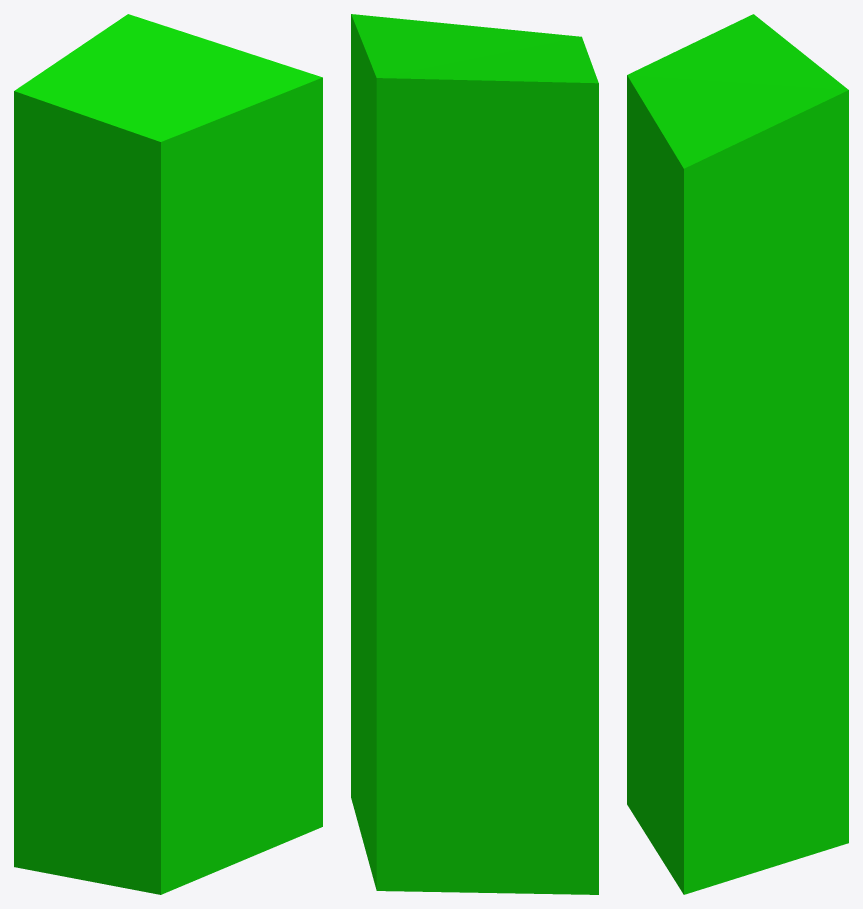
3 renders of one model, left to right at view 1: azimuth 30°, elevation 25°; view 2: azimuth 150°, elevation 25°; view 3: azimuth 270°, elevation 25°, orthographic. The views are drawn at different scales.
Visible parts, largest first — view 1: Plane.013; view 2: Plane.013; view 3: Plane.013.
Boxes of the visible parts, x1,y1,x2,y2 form: Plane.013: (14, 14, 322, 894); Plane.013: (351, 14, 598, 894); Plane.013: (627, 14, 848, 894).
Bounding box in the file's own units: 427 × 1162 × 310.
